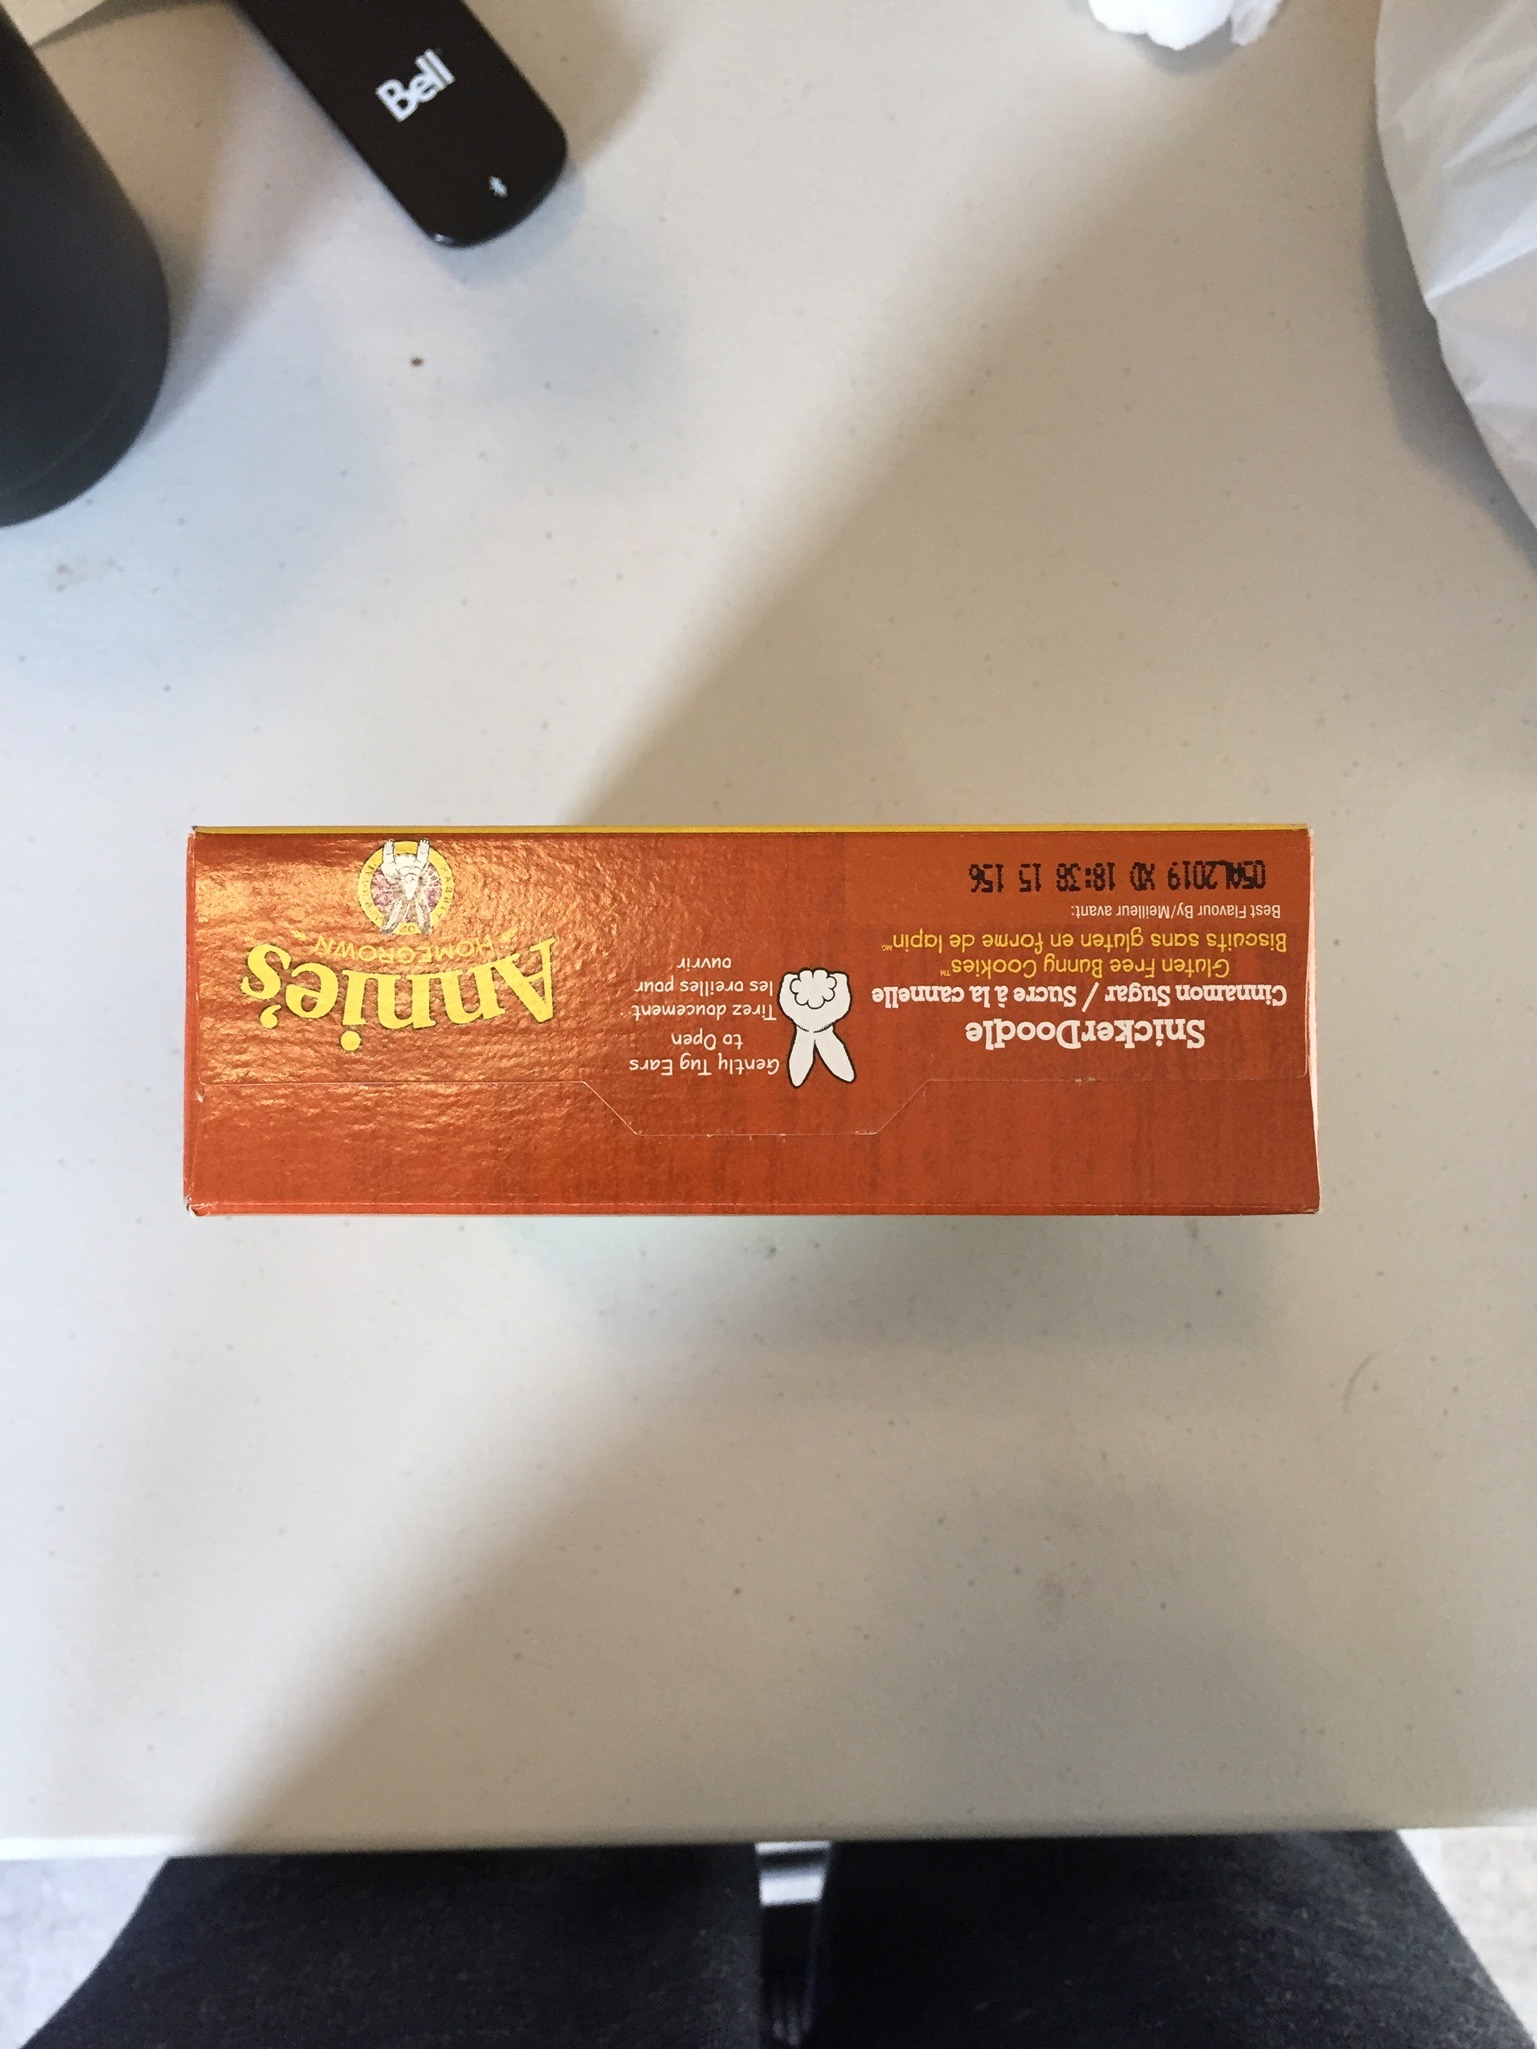annies_snickerdoodle_cinnamon_sugar: (207, 841, 1305, 1209)
